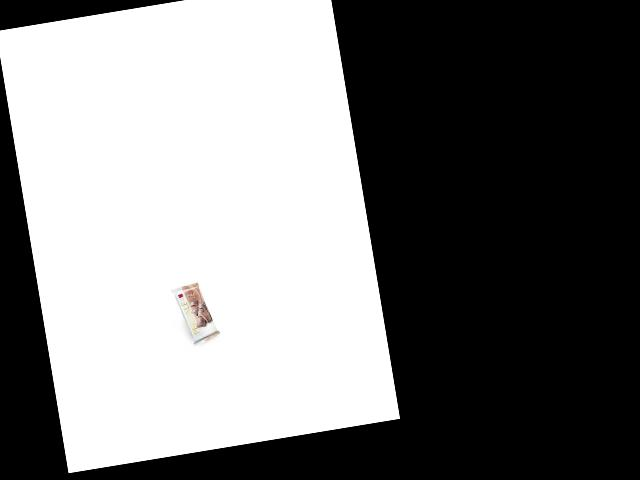chocolate: (169, 279, 225, 343)
